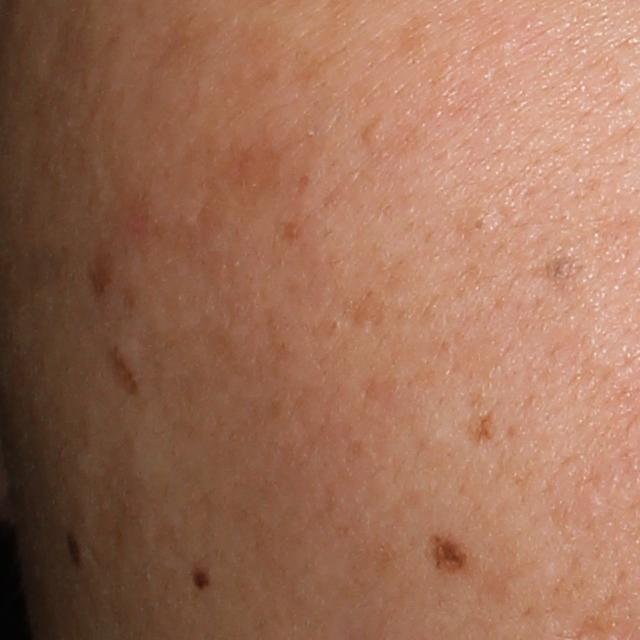comedo: (463, 204, 495, 237)
melasma: (196, 137, 279, 241)
nevus: (105, 340, 147, 401), (424, 532, 472, 576), (58, 524, 83, 580), (189, 564, 212, 594)
